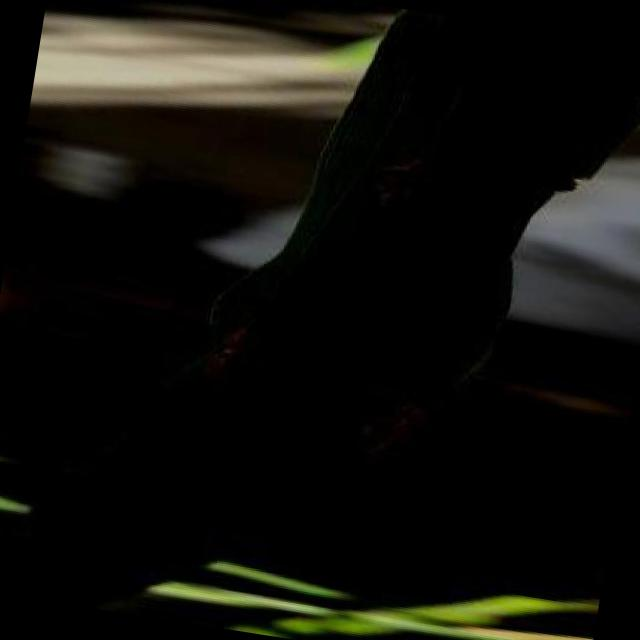Rice_Blast: (314, 84, 476, 240), (334, 351, 470, 481), (178, 270, 295, 414)
